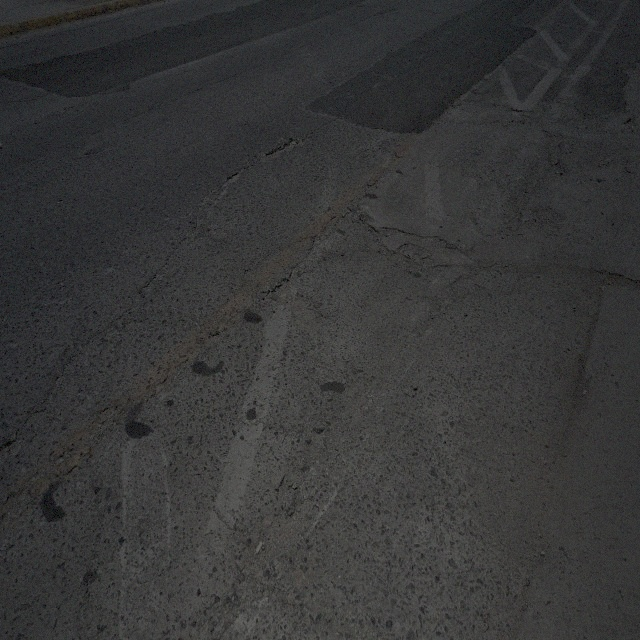pothole: (266, 259, 319, 337), (544, 258, 631, 292), (367, 224, 404, 264), (267, 128, 309, 158), (547, 132, 568, 178), (535, 205, 558, 242), (227, 169, 241, 185)
